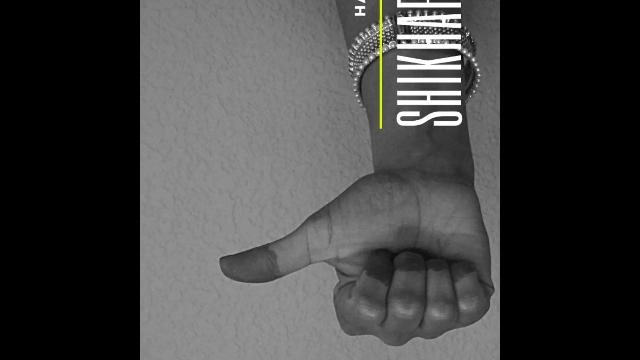shikhar: (180, 149, 499, 360)
